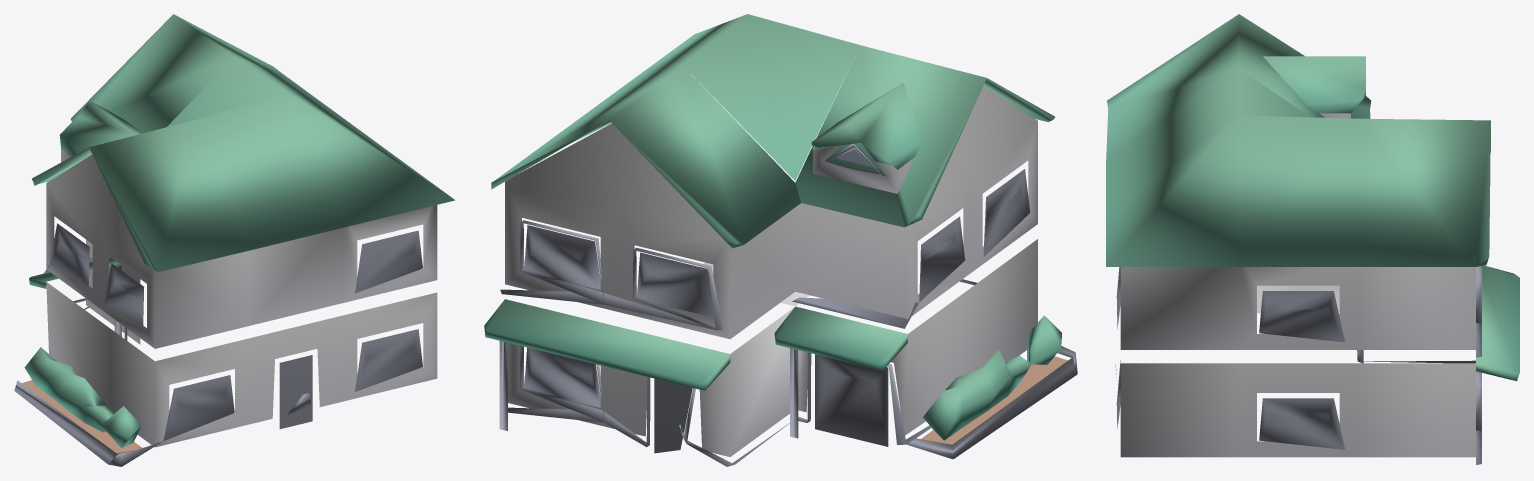
3 renders of one model, left to right at view 1: azimuth 30°, elevation 25°; view 2: azimuth 150°, elevation 25°; view 3: azimuth 270°, elevation 25°, orthographic. The views are drawn at different scales.
Size of the model in its own units: 11.35 by 9.1 by 11.18.
